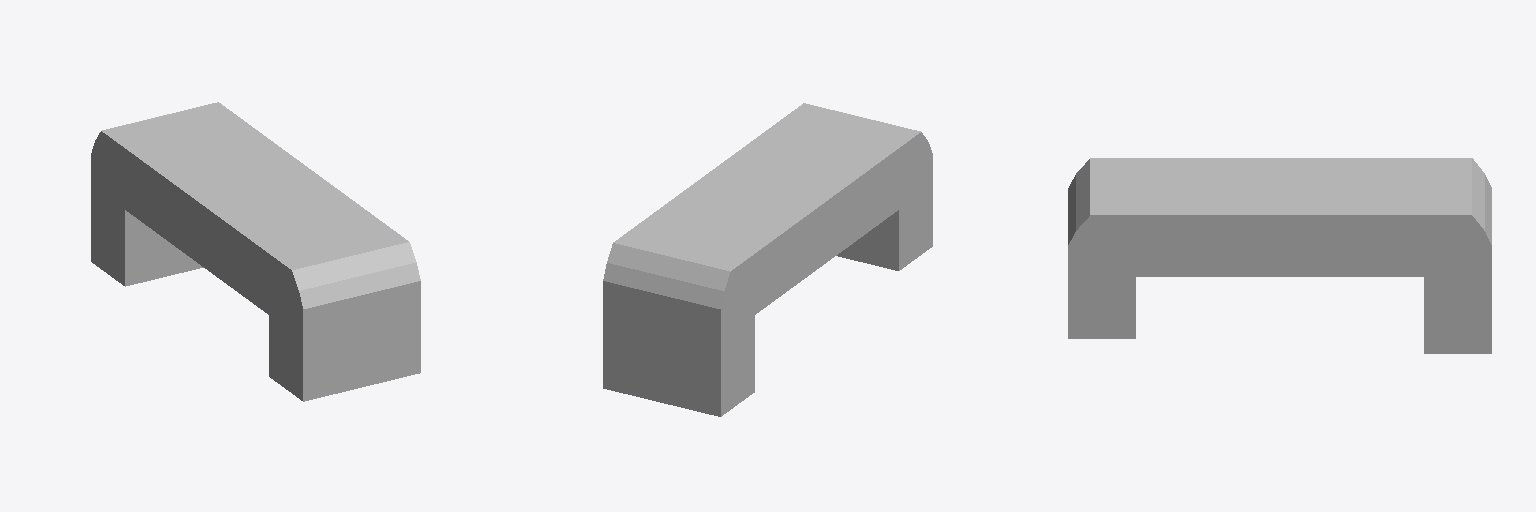
Rendered from Skull_001_Environment_001_Giant.obj.
3 renders of one model, left to right at view 1: azimuth 30°, elevation 25°; view 2: azimuth 150°, elevation 25°; view 3: azimuth 270°, elevation 25°, orthographic.
Parts seen in each view (by area): view 1: Skull_001_Track_001_Giant; view 2: Skull_001_Track_001_Giant; view 3: Skull_001_Track_001_Giant.
Part boxes in pixels (x1,y1,x2,y2): Skull_001_Track_001_Giant: (91,102,420,401); Skull_001_Track_001_Giant: (603,103,932,416); Skull_001_Track_001_Giant: (1068,158,1491,353).
Bounding box in the file's own units: 8 × 9 × 25.